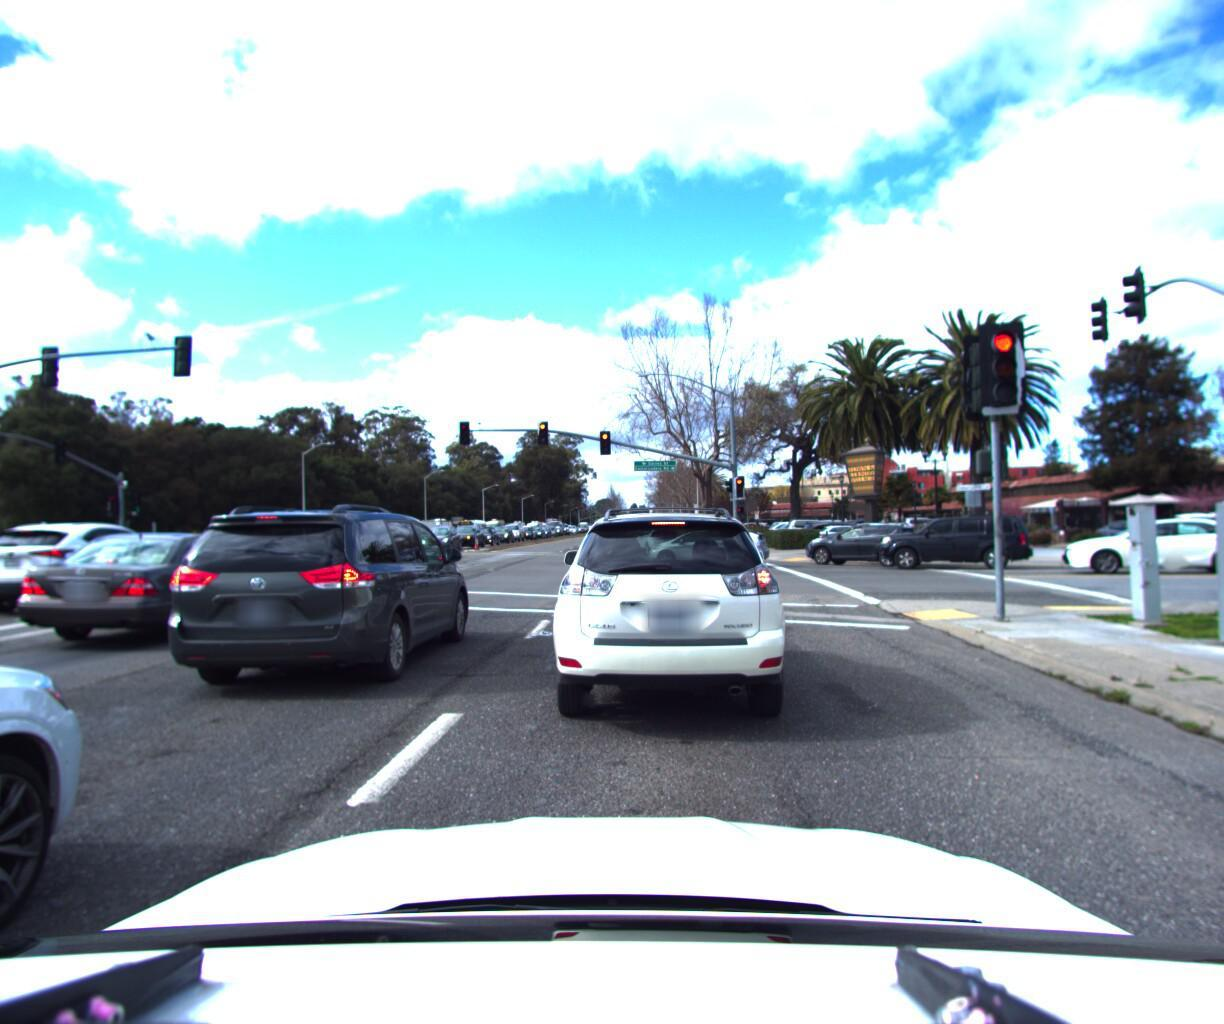car: (535, 493, 801, 746), (155, 500, 484, 703), (8, 530, 306, 661), (1051, 515, 1224, 576), (862, 513, 1031, 573), (794, 524, 925, 569), (631, 524, 762, 569), (76, 528, 193, 576), (1160, 506, 1224, 549), (816, 523, 898, 550), (801, 520, 879, 547), (637, 520, 689, 556), (422, 527, 468, 555), (449, 527, 490, 551), (470, 529, 506, 549), (503, 523, 532, 543)
other_vehicle: (330, 513, 399, 552)
